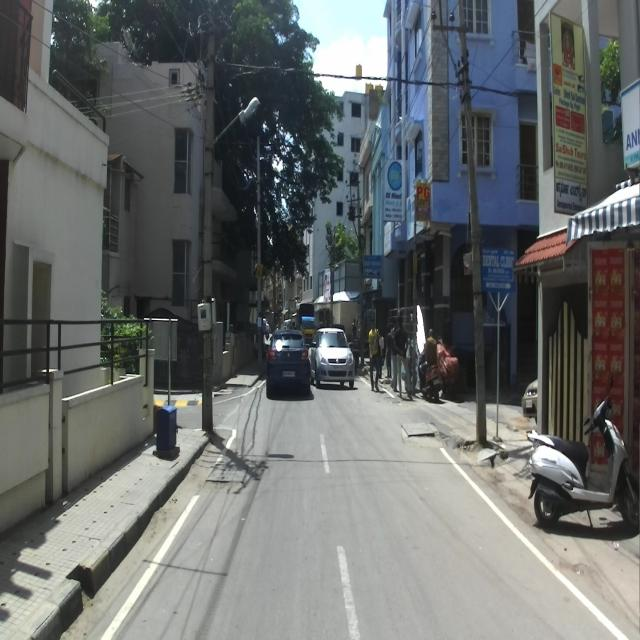Car_Maruti-Suzuki: (264, 328, 312, 399), (308, 324, 356, 390)
scooter: (527, 371, 639, 531)
